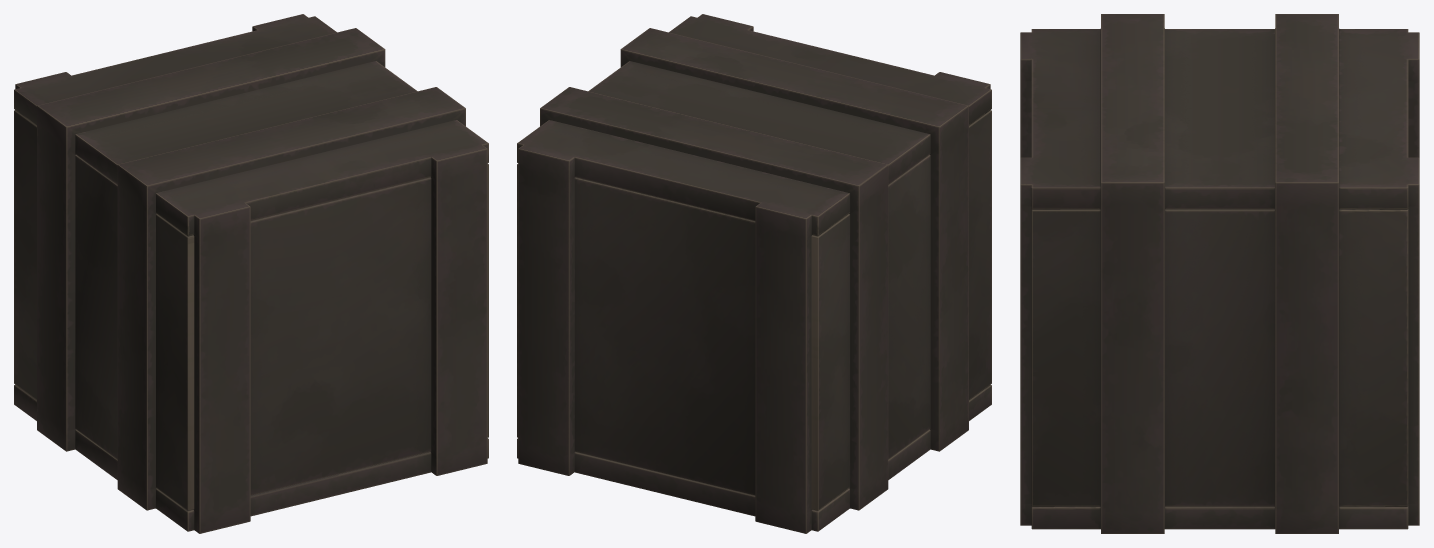
Rendered from woodenBox1.fbx.
3 views of the same model, side by side, from view 1: azimuth 30°, elevation 25°; view 2: azimuth 150°, elevation 25°; view 3: azimuth 270°, elevation 25° (orthographic). The views are drawn at different scales.
Parts seen in each view (by area): view 1: wooden_box; view 2: wooden_box; view 3: wooden_box.
Part boxes in pixels (box(x1,y1,x2,y2)): wooden_box: box(14, 14, 488, 533); wooden_box: box(517, 14, 991, 533); wooden_box: box(1020, 14, 1419, 533).
Bounding box in the file's own units: 106 × 103 × 106.
1 material, 1 textured.
